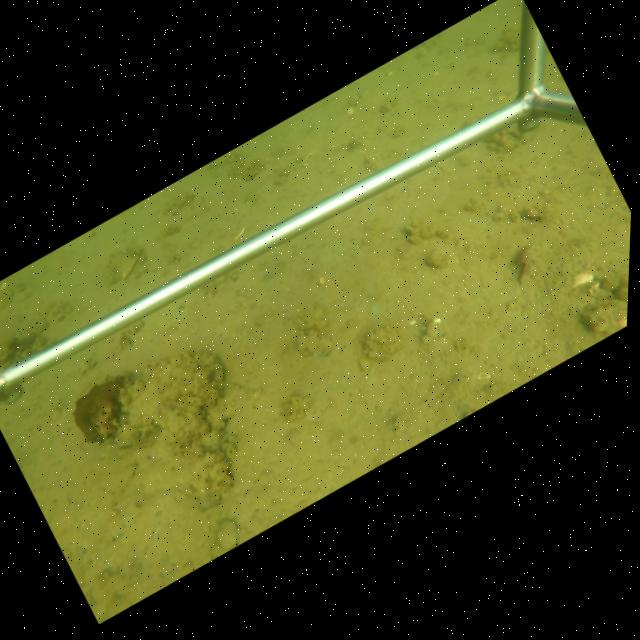Oyster-Indeterminate: (118, 252, 139, 281)
